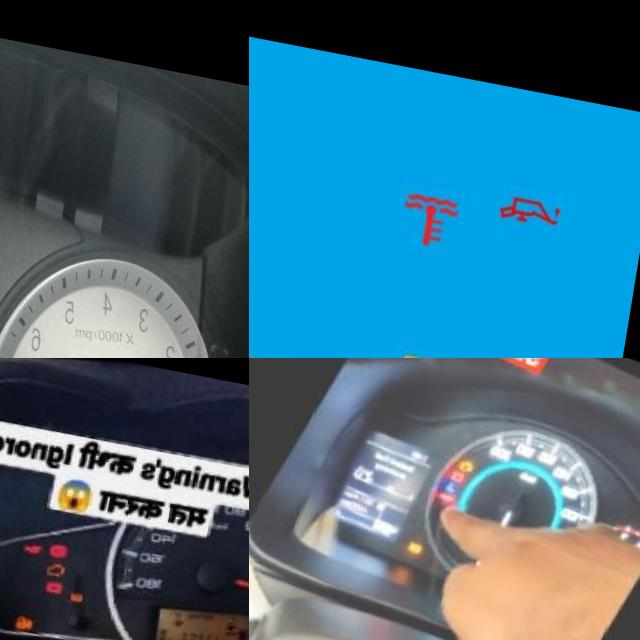Engine cooling system: (454, 466, 470, 482)
High Engine Coolant Temperature: (394, 163, 475, 246)
